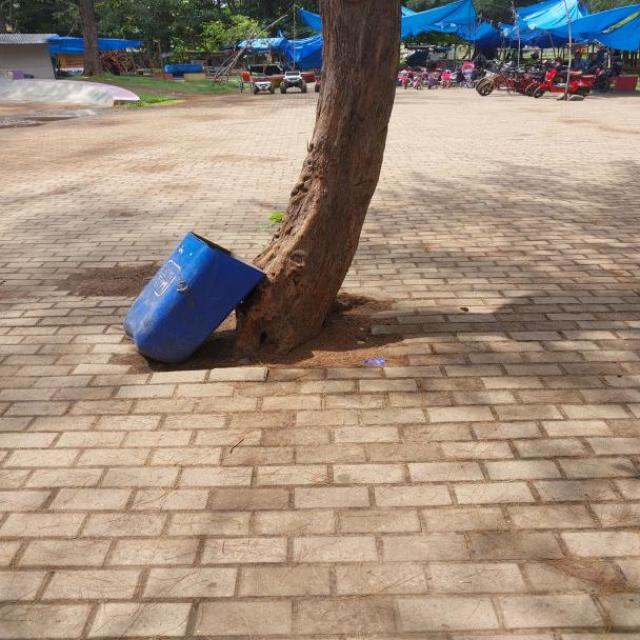dustbin ahead at: (128, 230, 260, 367)
